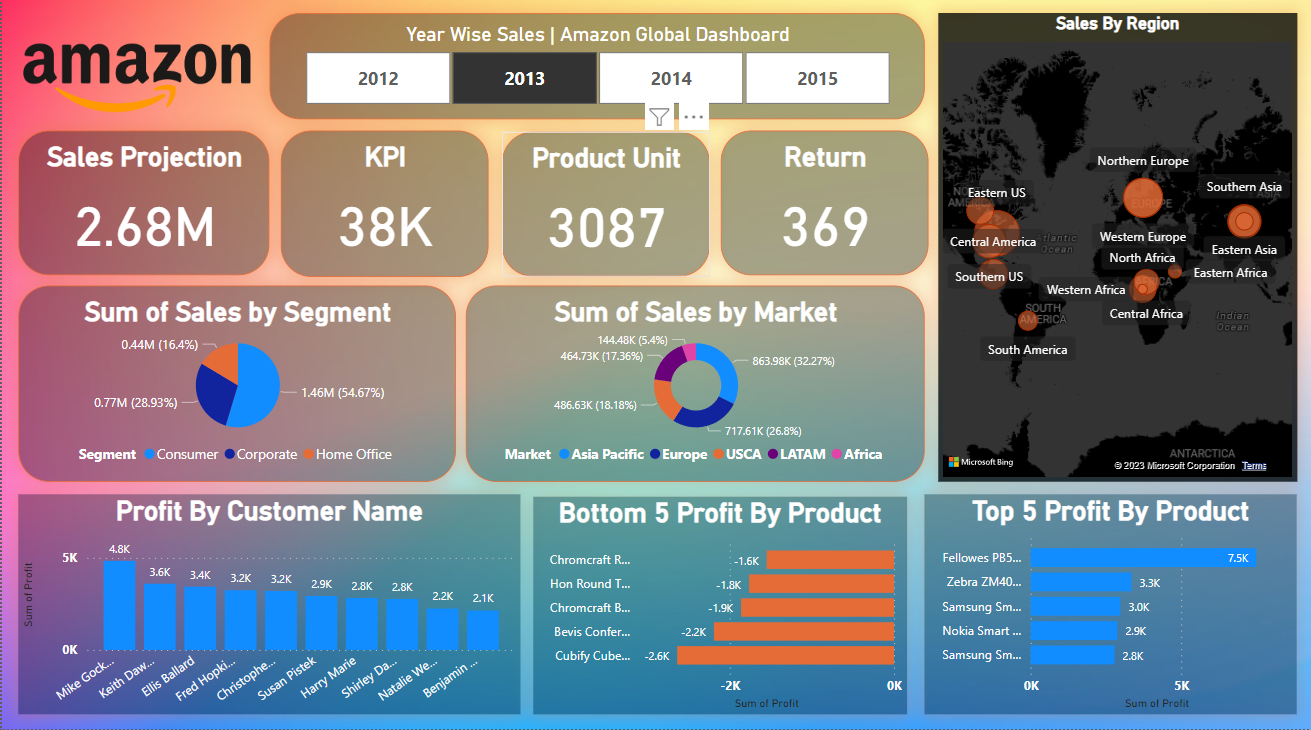

What the dashboard file says about the page in this screenshot:
{"tool":"powerbi","page":{"name":"Dashborad 1","canvas":[1280,720],"ordinal":0},"visuals":[{"type":"slicer","title":"Year Wise Sales | Amazon Global Dashboard ","fields":{"Values":["Orders.Year"]},"box":[261.6,19.6,640.5,103.9],"z":0},{"type":"card","title":"Sales Projection","fields":{"Values":["Orders.Sales"]},"box":[15.9,134.5,245.7,141.8],"z":1000},{"type":"image","box":[15.9,31.8,232.3,102.7],"z":2000},{"type":"card","title":"Product Unit ","fields":{"Values":["Orders.Product Name"]},"box":[489,135.7,202.9,141.8],"z":3000},{"type":"card","title":"KPI ","fields":{"Values":["Orders.Quantity"]},"box":[272.6,134.5,202.9,143],"z":4000},{"type":"card","title":"Return ","fields":{"Values":["Orders.Ship Date"]},"box":[702.9,134.5,202.9,141.8],"z":5000},{"type":"pieChart","title":"Sum of Sales by Segment","fields":{"Category":["Orders.Segment"],"Y":["Orders.Sales"]},"box":[15.9,286,427.8,191.9],"z":6000},{"type":"donutChart","title":"Sum of Sales by Market","fields":{"Y":["Orders.Sales"],"Category":["Orders.Market"]},"box":[453.5,286,448.6,191.9],"z":7000},{"type":"columnChart","title":"Profit By Customer Name","fields":{"Category":["Orders.Customer Name"],"Y":["Orders.Profit"]},"box":[15.9,490.2,491.4,215.1],"z":8000},{"type":"clusteredBarChart","title":"Bottom 5 Profit By Product","fields":{"Category":["Orders.Product Name"],"Y":["Orders.Profit"]},"box":[519.5,492.6,365.5,212.7],"z":9000},{"type":"clusteredBarChart","title":"Top 5 Profit By Product","fields":{"Category":["Orders.Product Name"],"Y":["Orders.Profit"]},"box":[902.1,490.2,364.3,215.1],"z":10000},{"type":"map","title":"Sales By Region","fields":{"Category":["Orders.Region"],"Size":["Orders.Sales"]},"box":[915.6,19.6,350.8,458.4],"z":11000}]}

Visuals, with their boxes in screenshot pixels (x1, y1, x2, y2), scaled from the page's 1280x720 canvas onto the 1311x730 screenshot:
"Year Wise Sales | Amazon Global Dashboard " slicer: 268:20:924:125
"Sales Projection" card: 16:136:268:280
image: 16:32:254:136
"Product Unit " card: 501:138:709:281
"KPI " card: 279:136:487:281
"Return " card: 720:136:928:280
"Sum of Sales by Segment" pieChart: 16:290:454:485
"Sum of Sales by Market" donutChart: 464:290:924:485
"Profit By Customer Name" columnChart: 16:497:520:715
"Bottom 5 Profit By Product" clusteredBarChart: 532:499:906:715
"Top 5 Profit By Product" clusteredBarChart: 924:497:1297:715
"Sales By Region" map: 938:20:1297:485
